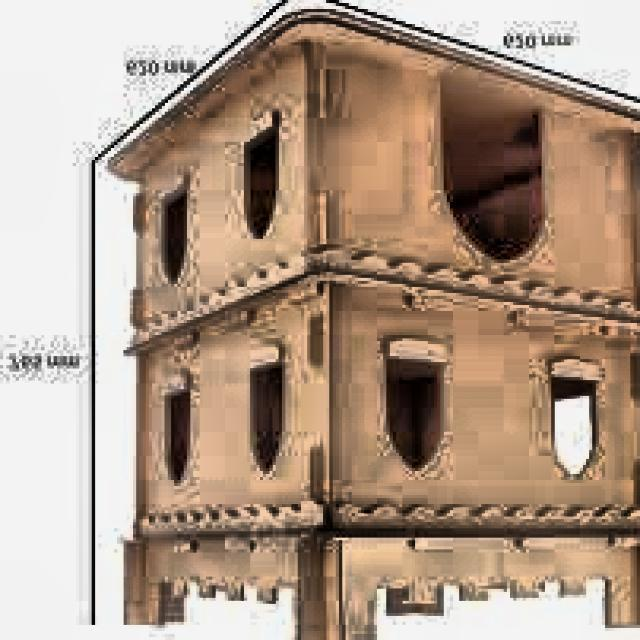cardboard: (95, 0, 640, 640)
